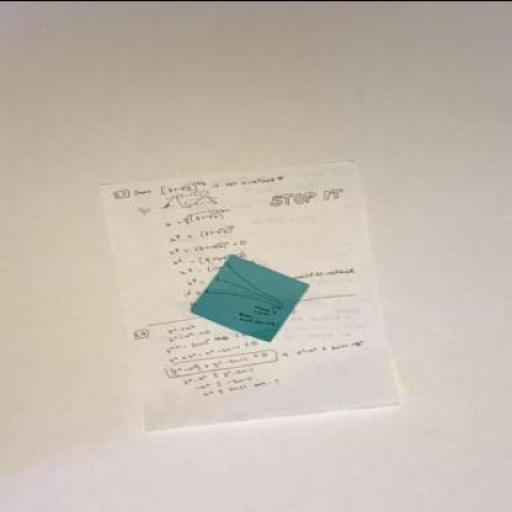paper: (98, 161, 396, 433), (188, 255, 309, 343)
